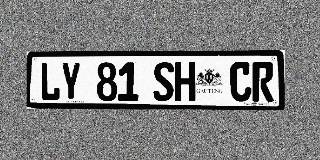1: (118, 62, 138, 101)
8: (97, 62, 117, 101)
C: (230, 62, 251, 102)
H: (175, 62, 195, 101)
L: (40, 62, 60, 101)
R: (252, 62, 274, 102)
S: (153, 62, 174, 101)
Y: (61, 62, 81, 101)
